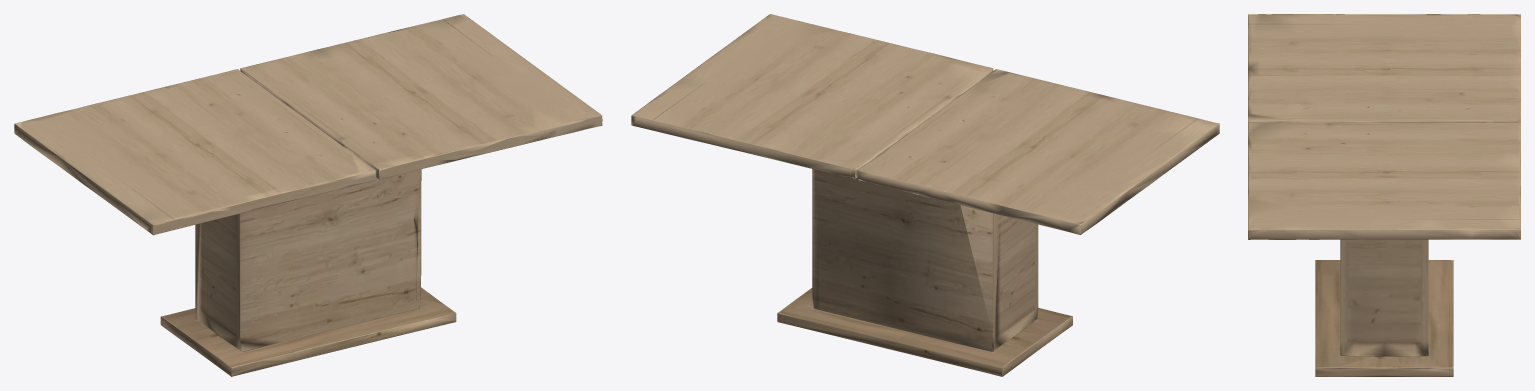
The model's file is coffee-table.glb.
3 views of the same model, side by side, from view 1: azimuth 30°, elevation 25°; view 2: azimuth 150°, elevation 25°; view 3: azimuth 270°, elevation 25° (orthographic).
Size of the model in its own units: 0.9478 by 0.4126 by 0.5063.
Materials: 1 (1 with a texture image).
